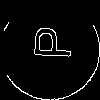P: (25, 25, 72, 60)
